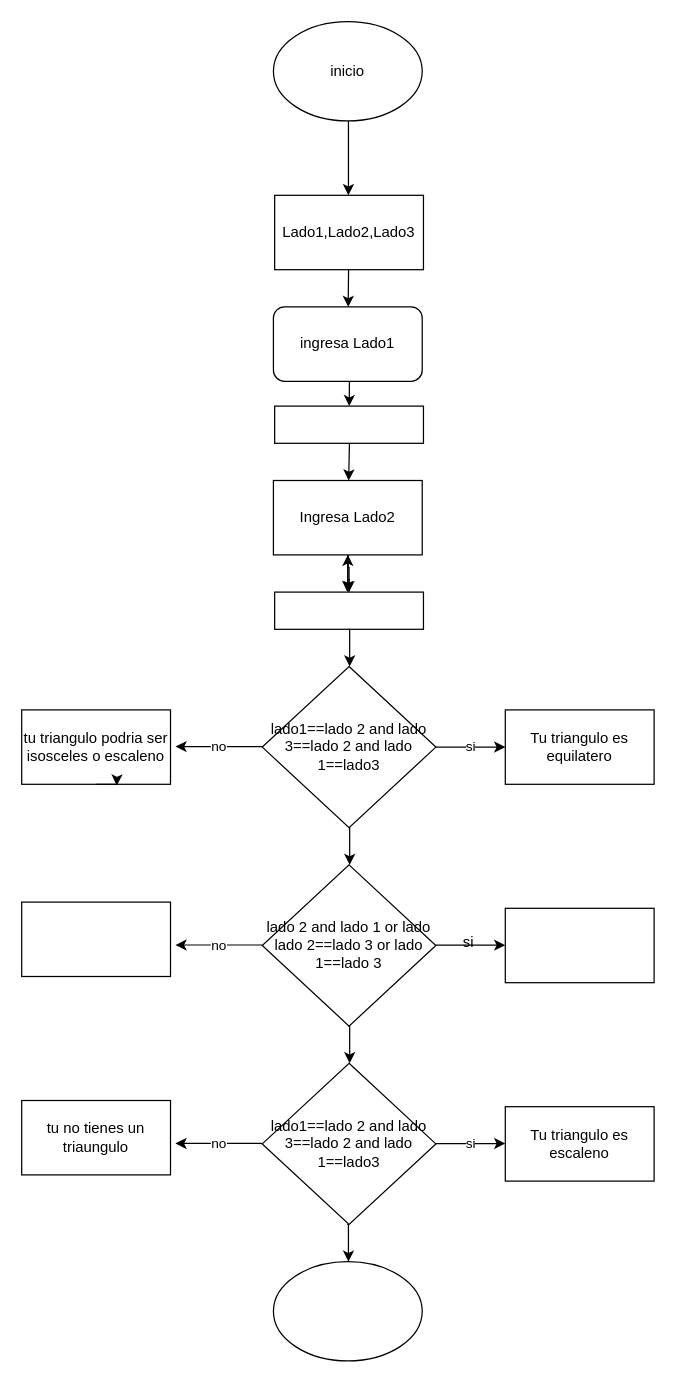
This 676x1383 diagram has some shape labels left out. The shapes that lost their labels are listed below. From the top down, each one's centre as x and y in pixels, then its label:
pixel 348 424: Leo Lado1
pixel 348 610: Leo Lado3
pixel 95 938: tu triangulo podria ser escaleno
pixel 579 945: Tu triangulo es isosceles
pixel 347 1310: Fin
